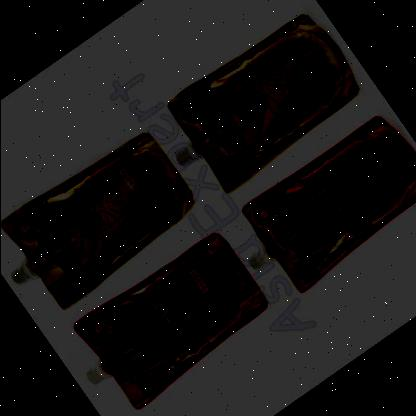Others: (71, 231, 269, 413), (166, 14, 362, 194), (0, 132, 196, 312), (242, 116, 416, 294)
